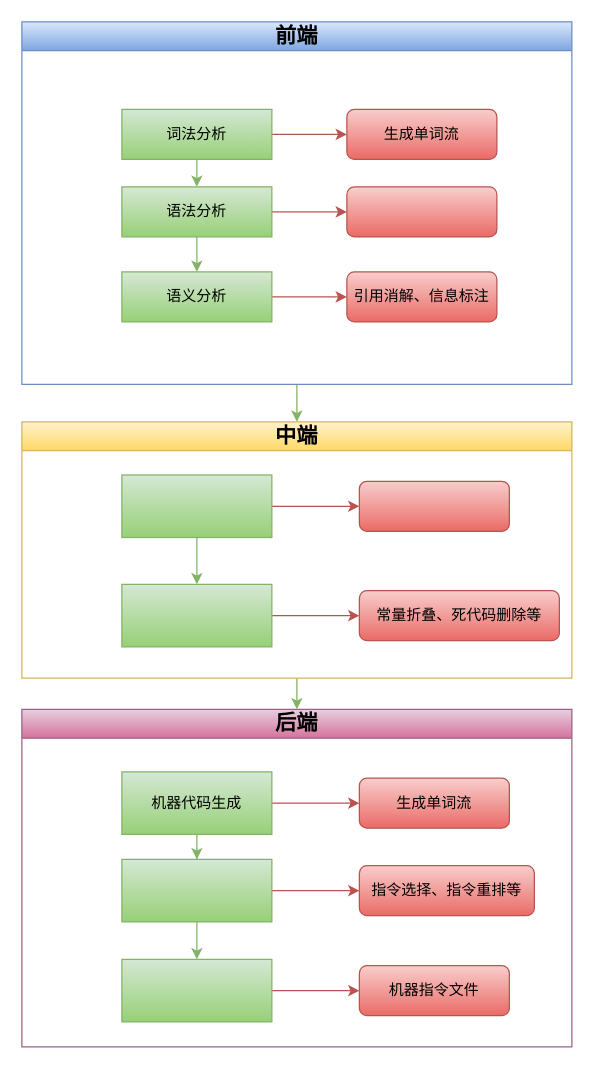
This 594x1069 diagram has some shape labels left out. The shapes that lost their labels are listed below. From the top down, each one's centre as x and y in pixels, then its label:
the point at 421,211: 生成语法树
the point at 196,506: 中间代码生成
the point at 433,505: 生成中间表达式
the point at 196,615: 机器无关代码优化
the point at 196,890: 机器相关优化
the point at 196,990: 目标文件生成
